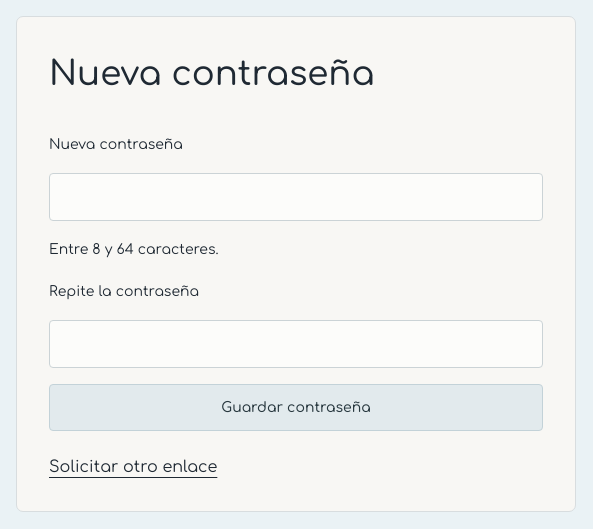
Test: Recuperación de contraseña › envía el enlace y la contraseña y muestra la confirmación
In the password field with id "new-password": (296, 197) [49, 173, 543, 221], type "NewPassword123"
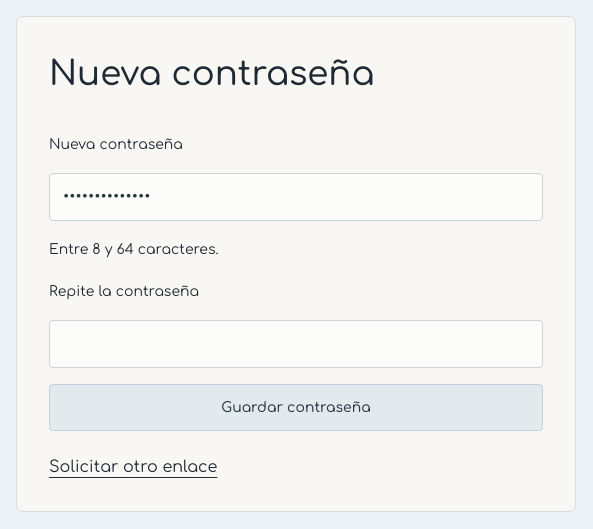
In the password field with id "confirm-password": (296, 344) [49, 320, 543, 368], type "NewPassword123"
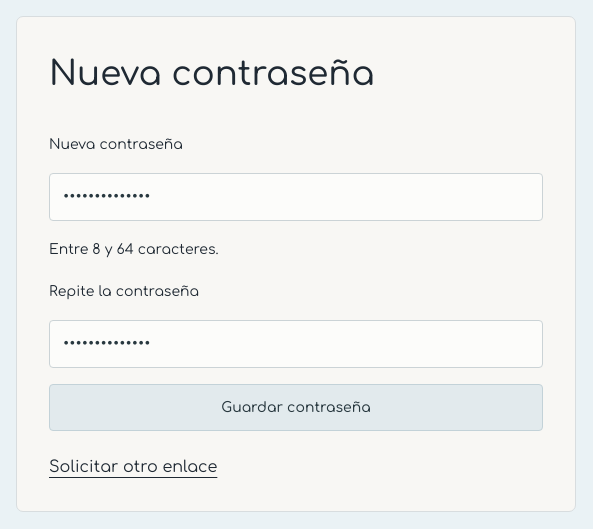
Submit the form, box [49, 132, 543, 431]
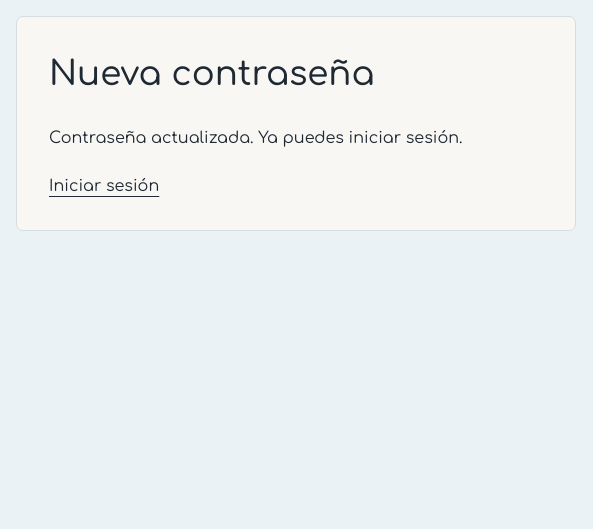
Now the message "Contraseña actualizada. Ya puedes iniciar sesión." is shown, box [49, 129, 462, 147]
